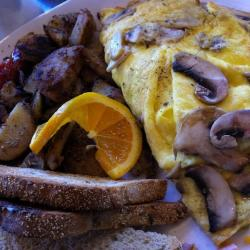bread: (2, 162, 189, 238)
omelette: (107, 9, 250, 237)
